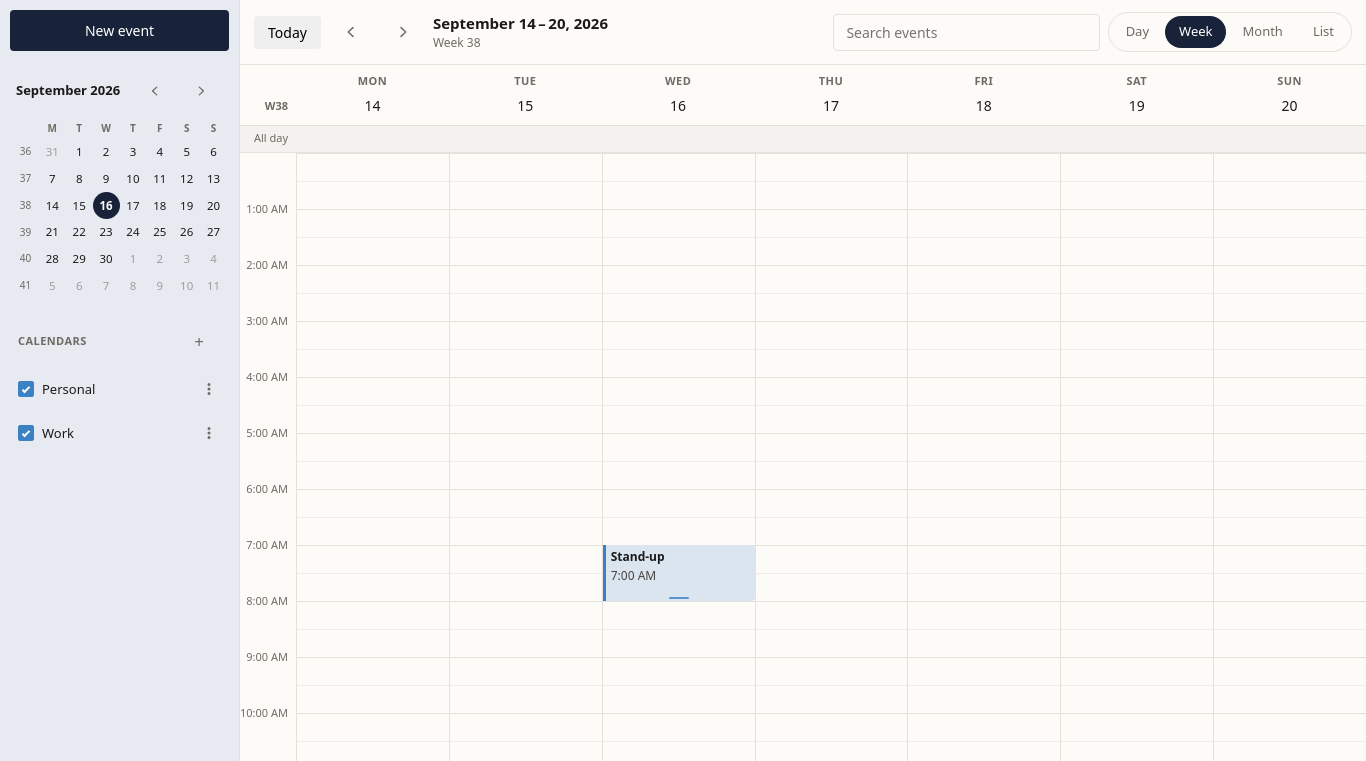
Test: CalendarLayout — the bubble › lights the chip the open bubble hangs off
The image size is (1366, 761).
Click the button "Stand-up 7:00 AM": (679, 572) top-left (603, 544), bottom-right (755, 600)
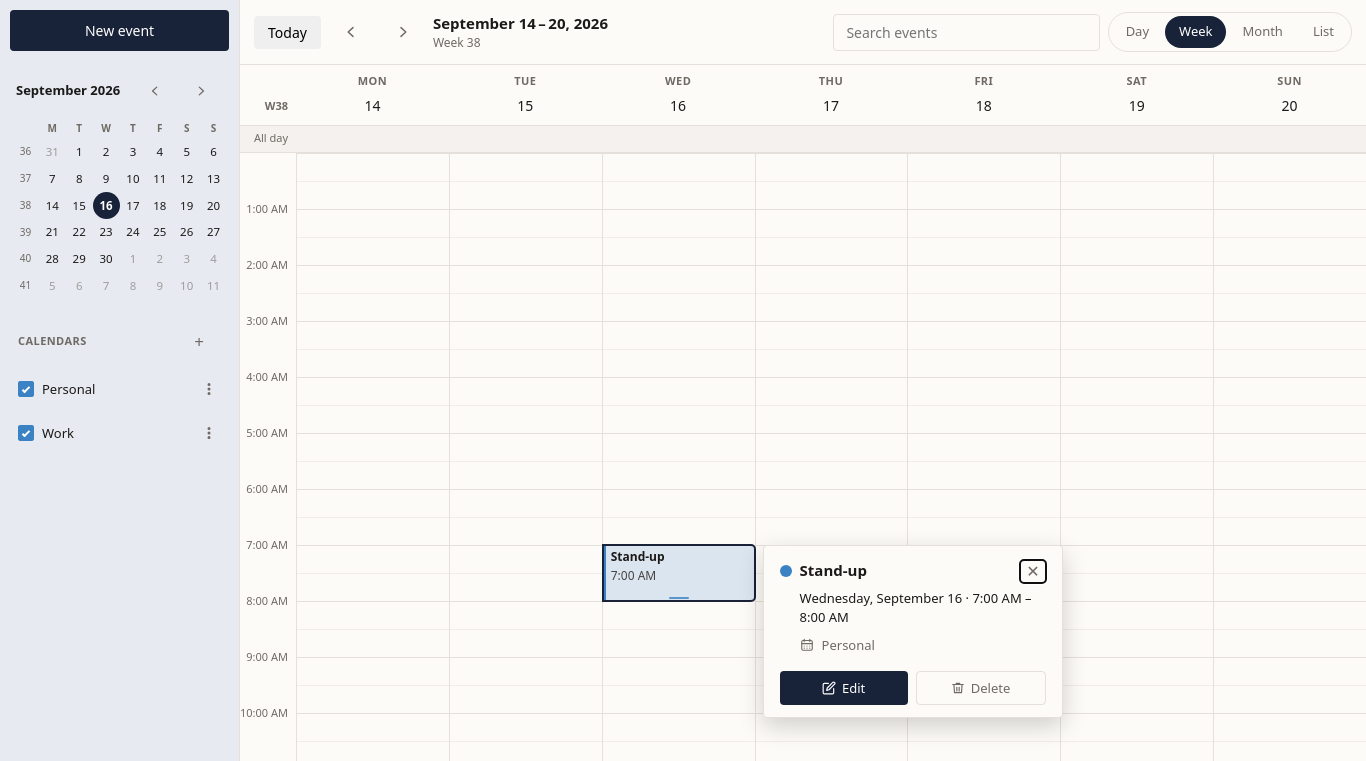
expect the dialog "Stand-up" is shown: met, box top-left (763, 544), bottom-right (1063, 718)
